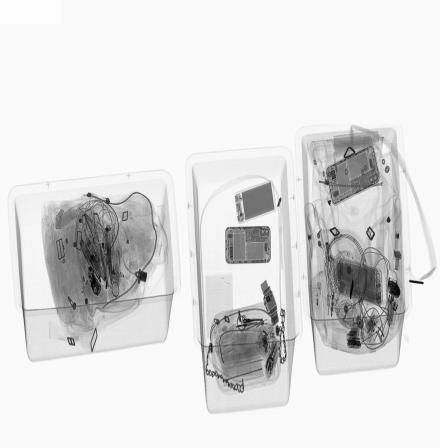Lighter: (314, 281, 324, 324)
